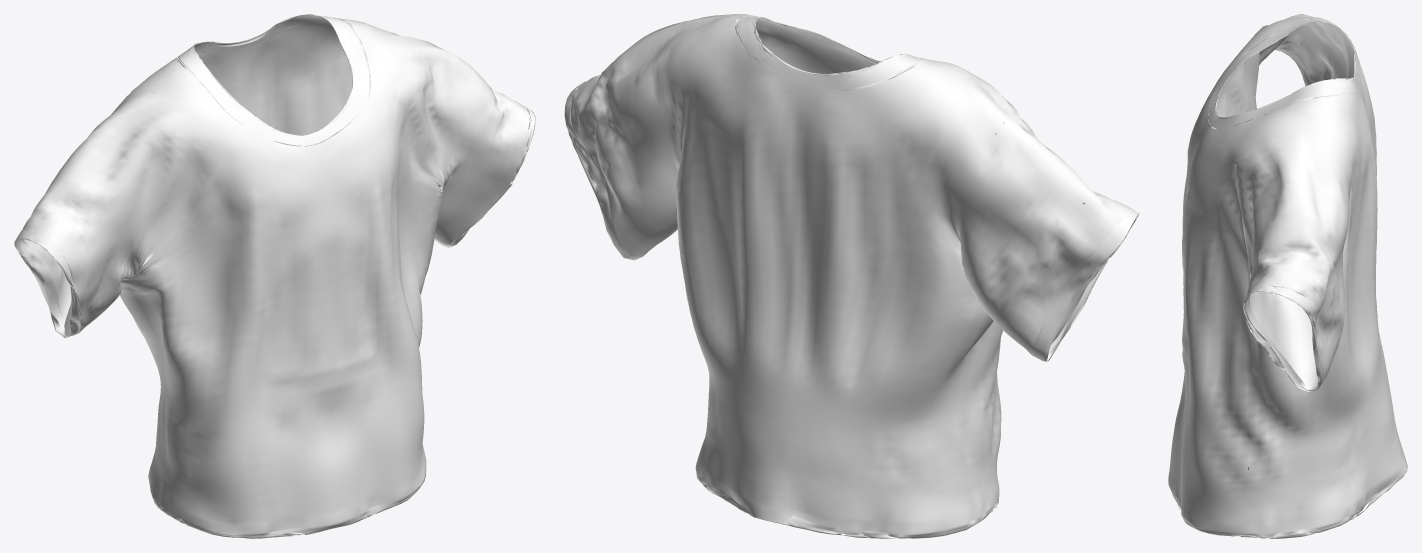
File: Tshirt_XL.glb
3 renders of one model, left to right at view 1: azimuth 30°, elevation 25°; view 2: azimuth 150°, elevation 25°; view 3: azimuth 270°, elevation 25°, orthographic. The views are drawn at different scales.
Visible parts, largest first — view 1: TShirt_for_Genesis.002; view 2: TShirt_for_Genesis.002; view 3: TShirt_for_Genesis.002.
Boxes of the visible parts, bbox=[...] form: TShirt_for_Genesis.002: bbox=[14, 14, 535, 538]; TShirt_for_Genesis.002: bbox=[564, 14, 1139, 538]; TShirt_for_Genesis.002: bbox=[1168, 14, 1407, 538].
Bounding box in the file's own units: 17.94 × 14.83 × 7.32.
1 material, 1 textured.
